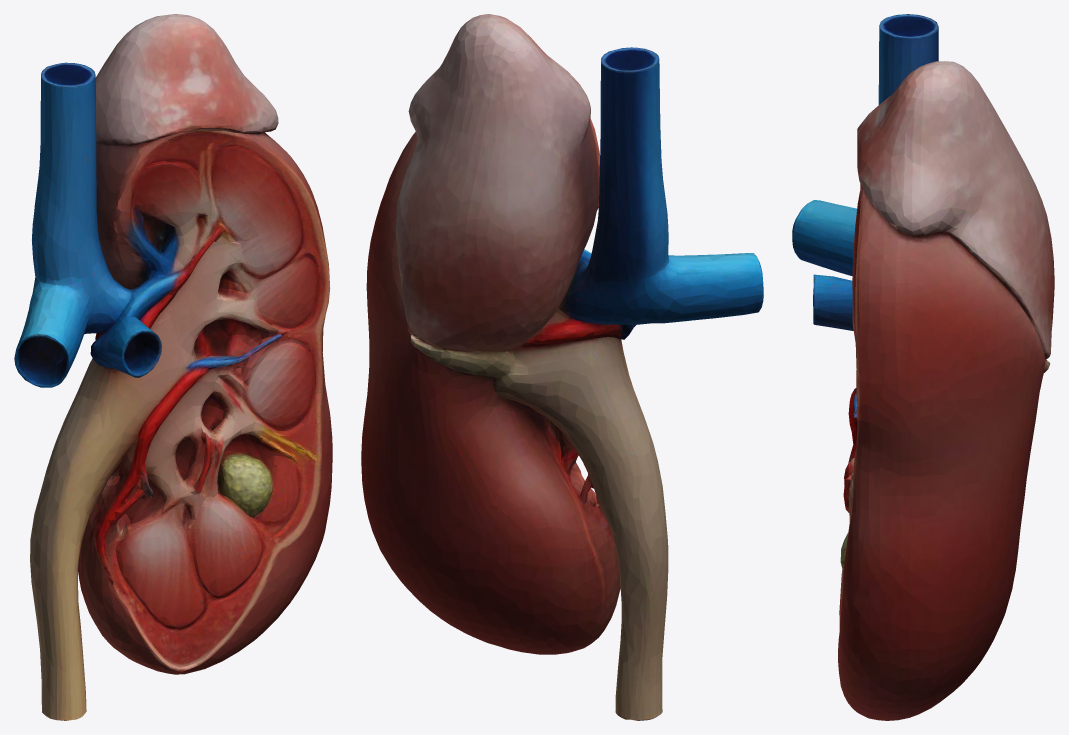
The model's file is kidney-with-stone.glb.
3 renders of one model, left to right at view 1: azimuth 30°, elevation 25°; view 2: azimuth 150°, elevation 25°; view 3: azimuth 270°, elevation 25°, orthographic. The views are drawn at different scales.
Parts seen in each view (by area): view 1: KidneyStone; view 2: KidneyStone; view 3: KidneyStone.
Part boxes in pixels (box(x1,y1,x2,y2)): KidneyStone: box(14, 14, 332, 720); KidneyStone: box(361, 14, 763, 720); KidneyStone: box(792, 14, 1054, 720).
Size of the model in its own units: 0.5514 by 1 by 0.3541.
1 material, 1 textured.
